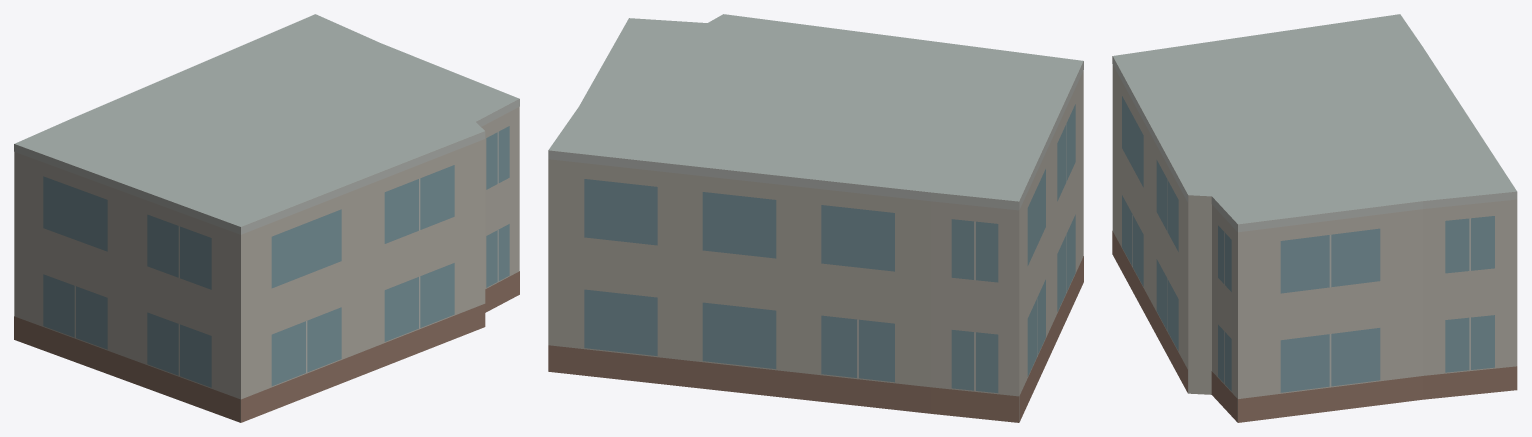
File: survey-upis-32680233.glb
The picture shows the model from 3 angles, left to right: view 1: azimuth 30°, elevation 25°; view 2: azimuth 150°, elevation 25°; view 3: azimuth 270°, elevation 25°; orthographic projection. The views are drawn at different scales.
Parts seen in each view (by area): view 1: survey-upis-32680233.tmp; view 2: survey-upis-32680233.tmp; view 3: survey-upis-32680233.tmp.
Part boxes in pixels (bbox=[...]): survey-upis-32680233.tmp: bbox=[14, 14, 519, 422]; survey-upis-32680233.tmp: bbox=[548, 14, 1083, 422]; survey-upis-32680233.tmp: bbox=[1112, 14, 1517, 422].
Bounding box in the file's own units: 13.88 × 6.1 × 11.28.
